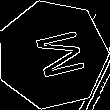M_W: (22, 26, 83, 83)
